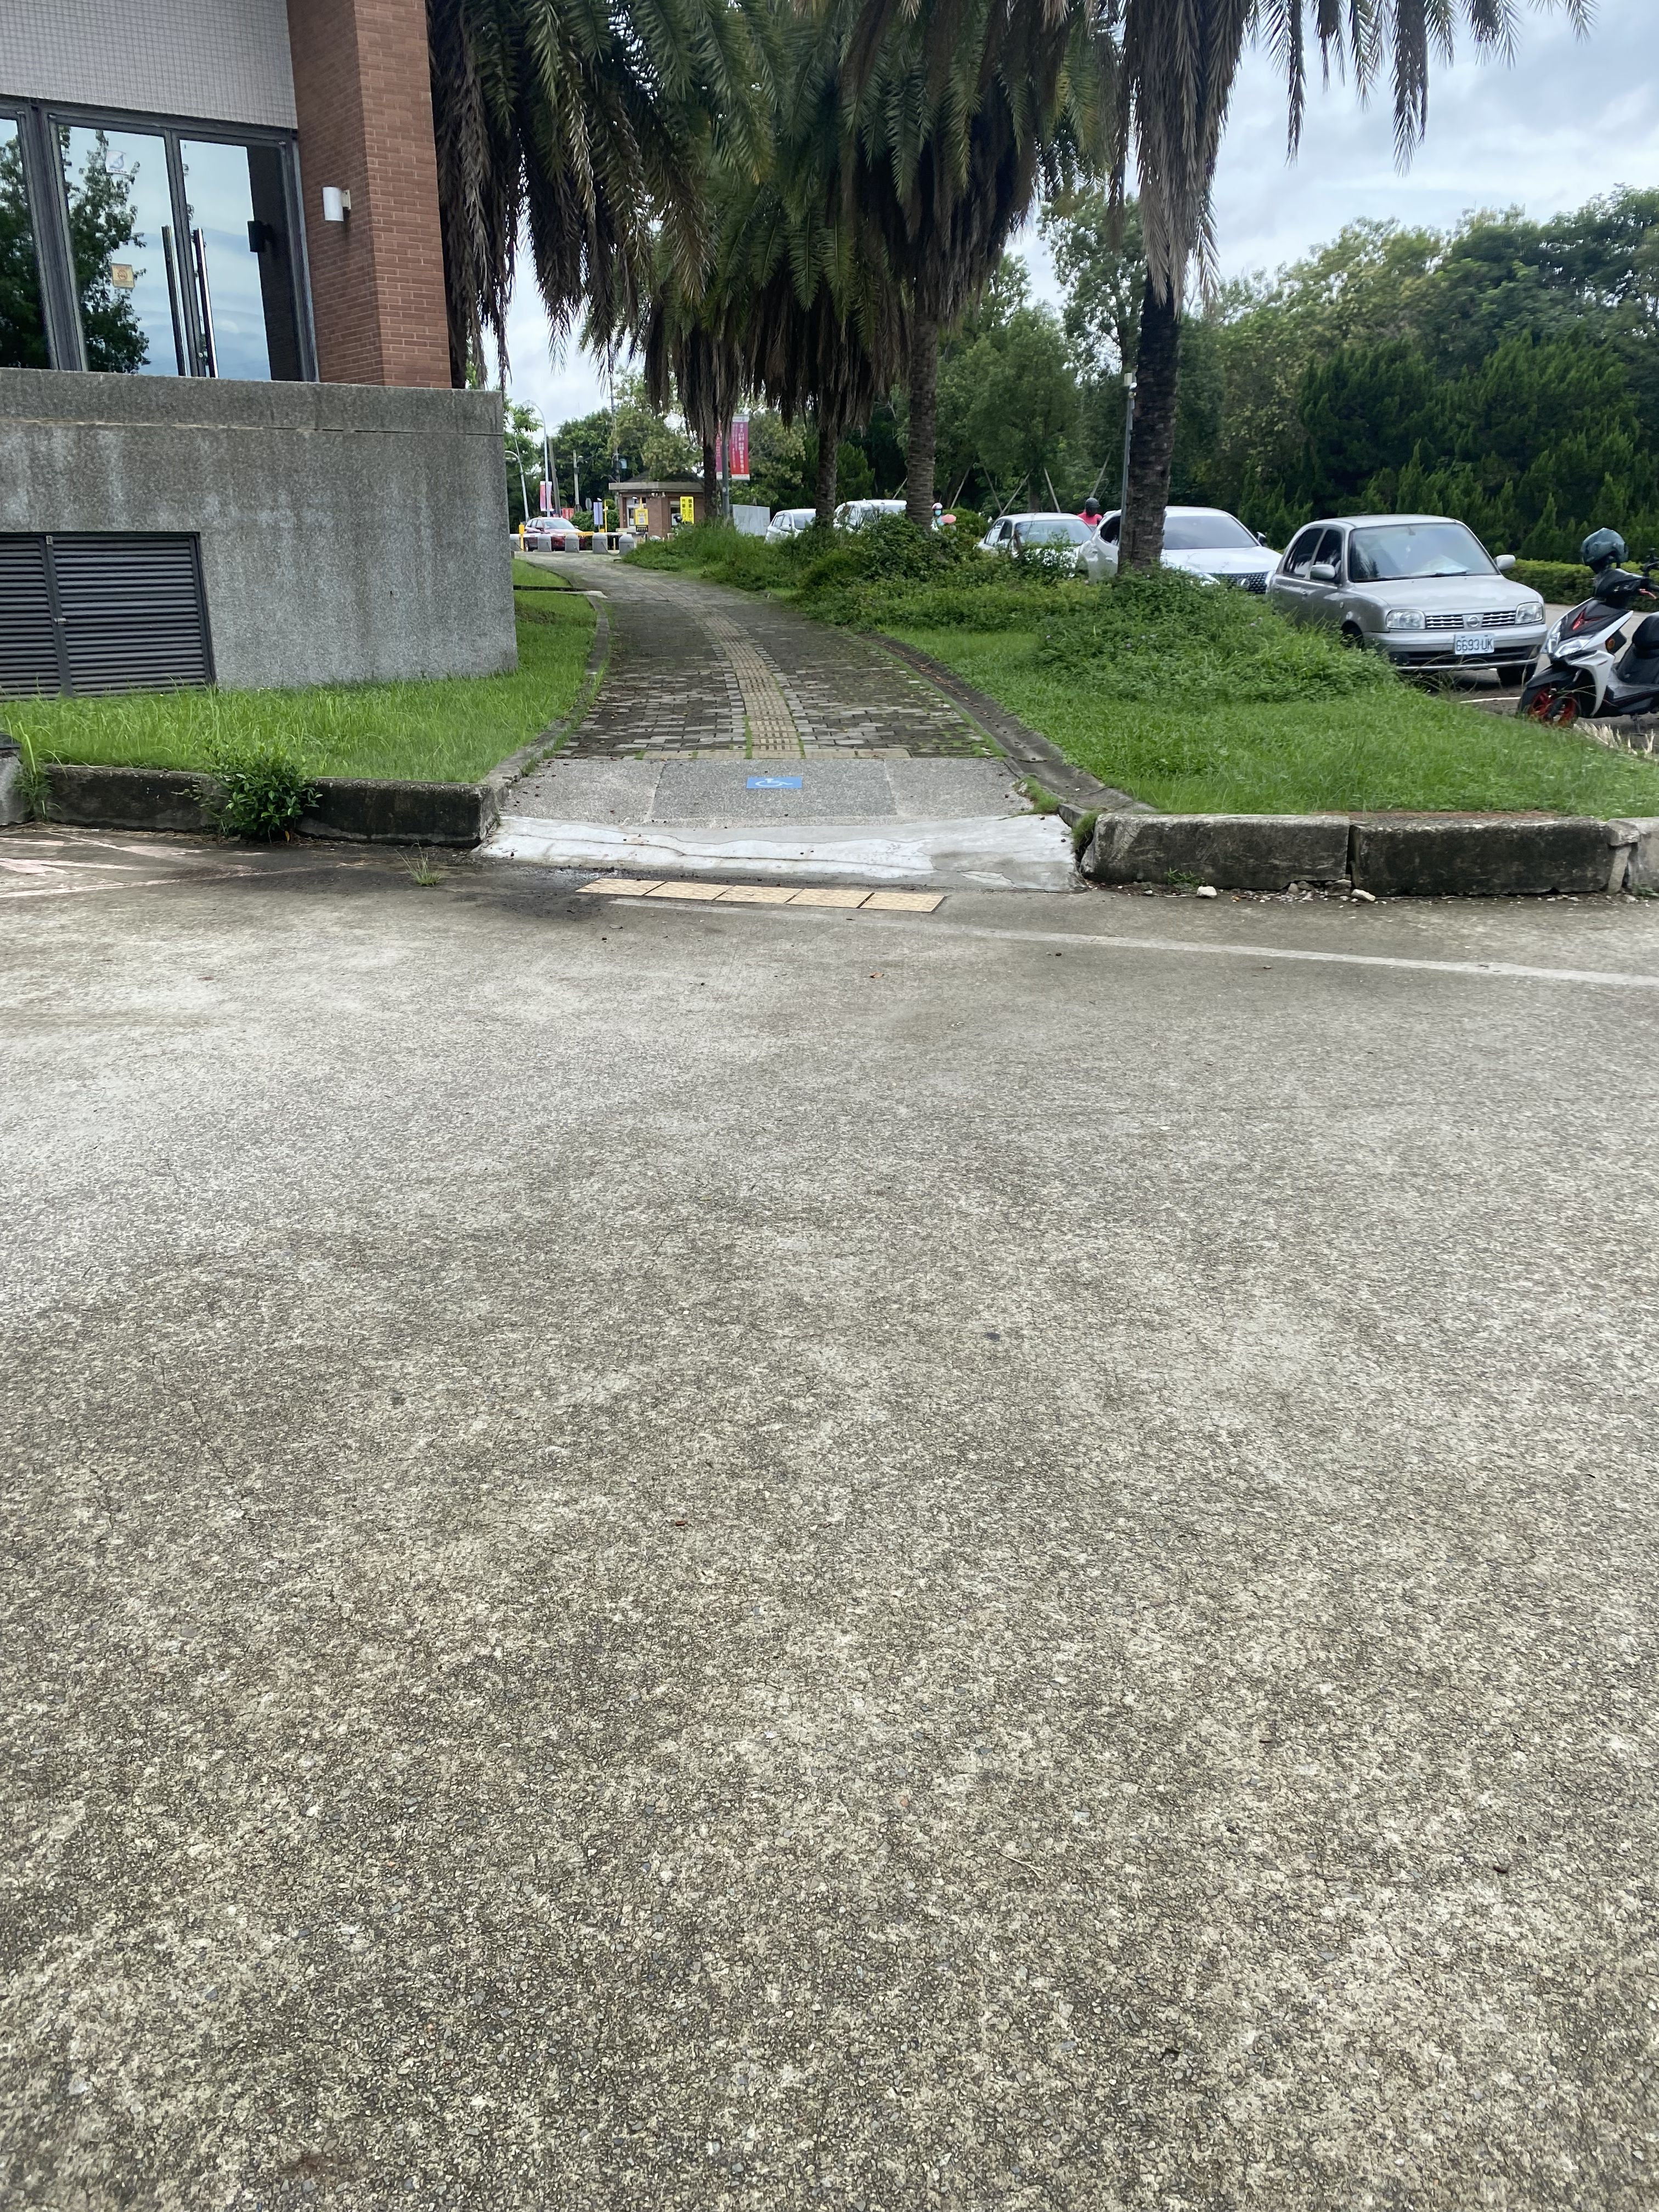sidewalk: (464, 540, 1084, 993)
